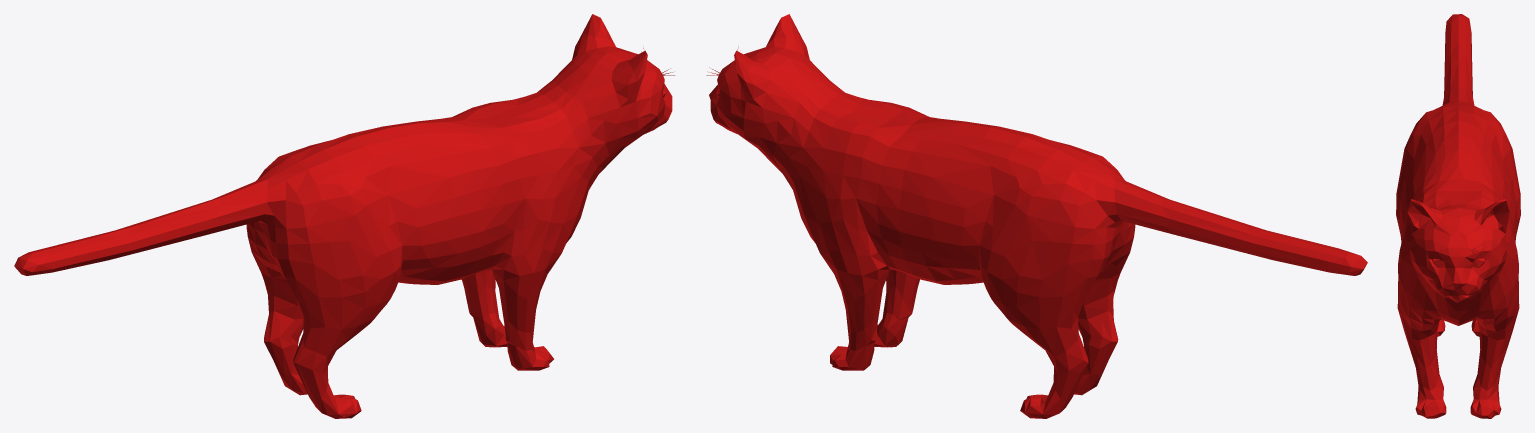
File: cat.fbx
3 views of the same model, side by side, from view 1: azimuth 30°, elevation 25°; view 2: azimuth 150°, elevation 25°; view 3: azimuth 270°, elevation 25° (orthographic). The views are drawn at different scales.
Visible parts, largest first — view 1: grp1; view 2: grp1; view 3: grp1.
Boxes of the visible parts, x1=… form: grp1: x1=14, y1=14, x2=674, y2=418; grp1: x1=706, y1=14, x2=1367, y2=418; grp1: x1=1396, y1=14, x2=1520, y2=418.
Bounding box in the file's own units: 762 × 331 × 144.
